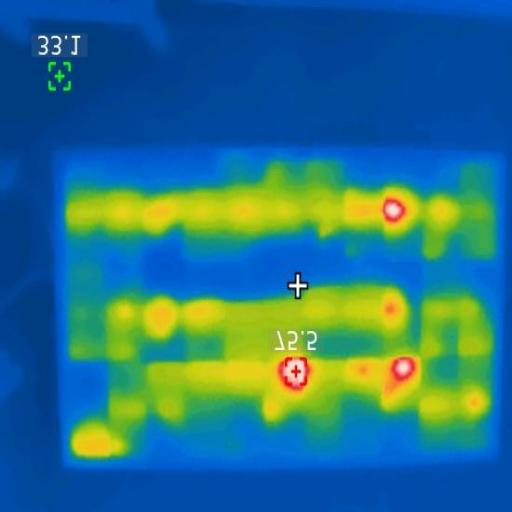hotspot: (282, 356, 306, 390), (390, 353, 416, 379), (384, 197, 405, 224)
